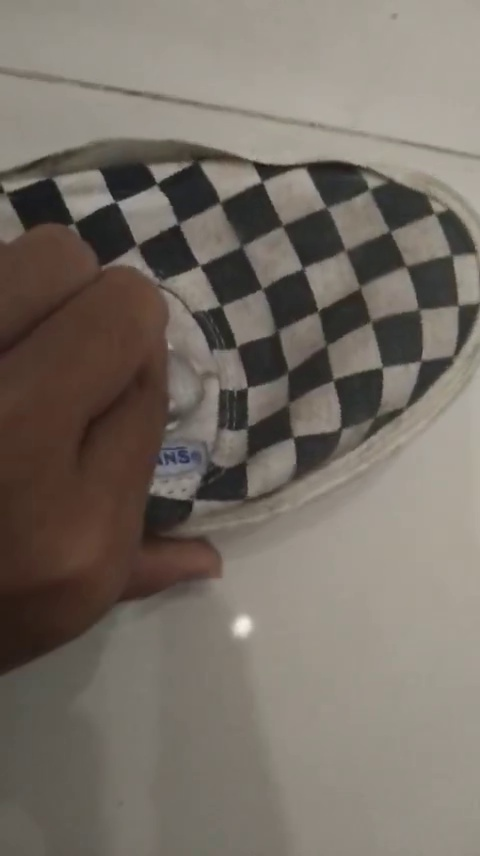bonding: (8, 136, 258, 176), (286, 150, 373, 194)
